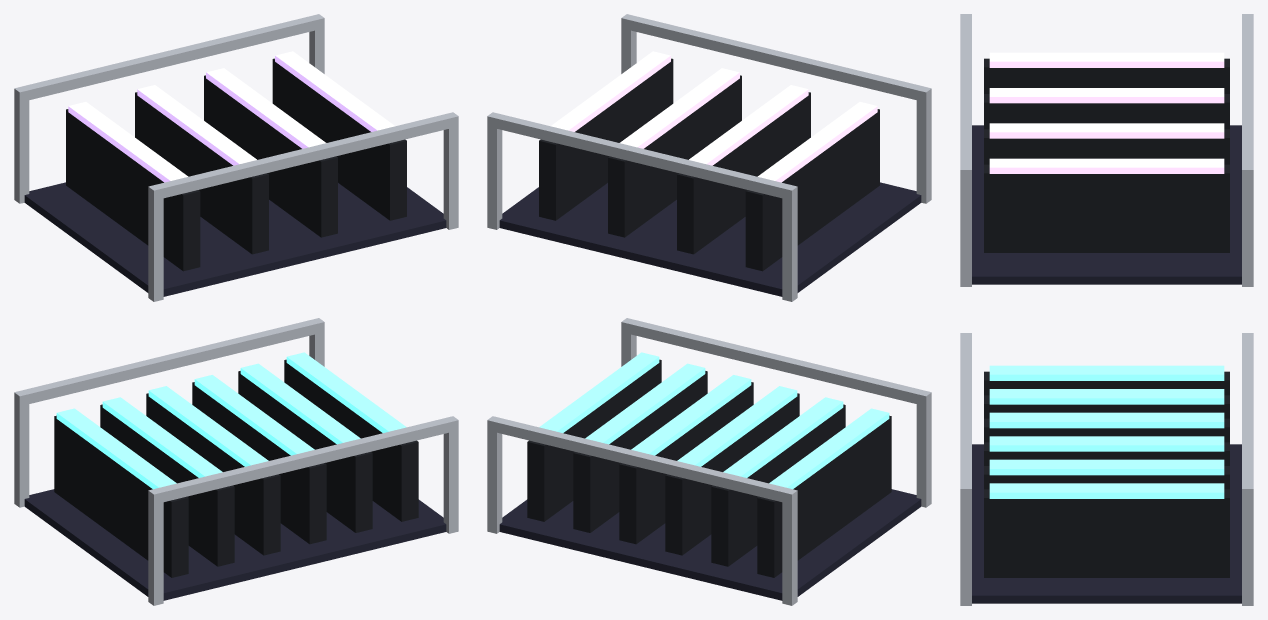
File: station_buffer_ausstattung_2_2.glb
The picture shows the model from 3 angles, left to right: view 1: azimuth 30°, elevation 25°; view 2: azimuth 150°, elevation 25°; view 3: azimuth 270°, elevation 25°; orthographic projection. The views are drawn at different scales.
Visible parts, largest first — view 1: station_buffer_ausstattung_2_2; view 2: station_buffer_ausstattung_2_2; view 3: station_buffer_ausstattung_2_2.
Part boxes in pixels (box(x1,y1,x2,y2)): station_buffer_ausstattung_2_2: box(14, 14, 458, 605); station_buffer_ausstattung_2_2: box(487, 14, 931, 605); station_buffer_ausstattung_2_2: box(960, 14, 1253, 605).
Bounding box in the file's own units: 0.63 × 0.82 × 0.5.
